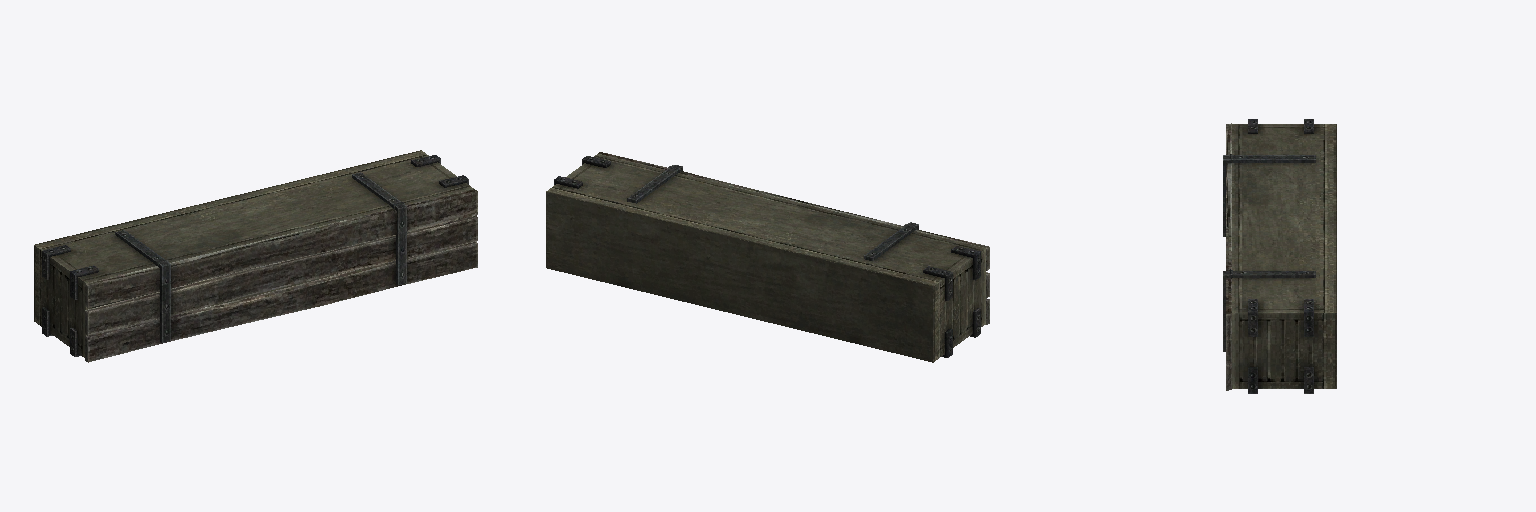
3 renders of one model, left to right at view 1: azimuth 30°, elevation 25°; view 2: azimuth 150°, elevation 25°; view 3: azimuth 270°, elevation 25°, orthographic.
Visible parts, largest first — view 1: studio.cratelong_ref.mesh_0; view 2: studio.cratelong_ref.mesh_0; view 3: studio.cratelong_ref.mesh_0.
Part boxes in pixels (left/top/right/bottom): studio.cratelong_ref.mesh_0: left=34, top=150, right=477, bottom=362; studio.cratelong_ref.mesh_0: left=546, top=152, right=989, bottom=362; studio.cratelong_ref.mesh_0: left=1223, top=119, right=1336, bottom=393.
Bounding box in the file's own units: 92.3 × 18.65 × 23.2.
Materials: 1 (1 with a texture image).